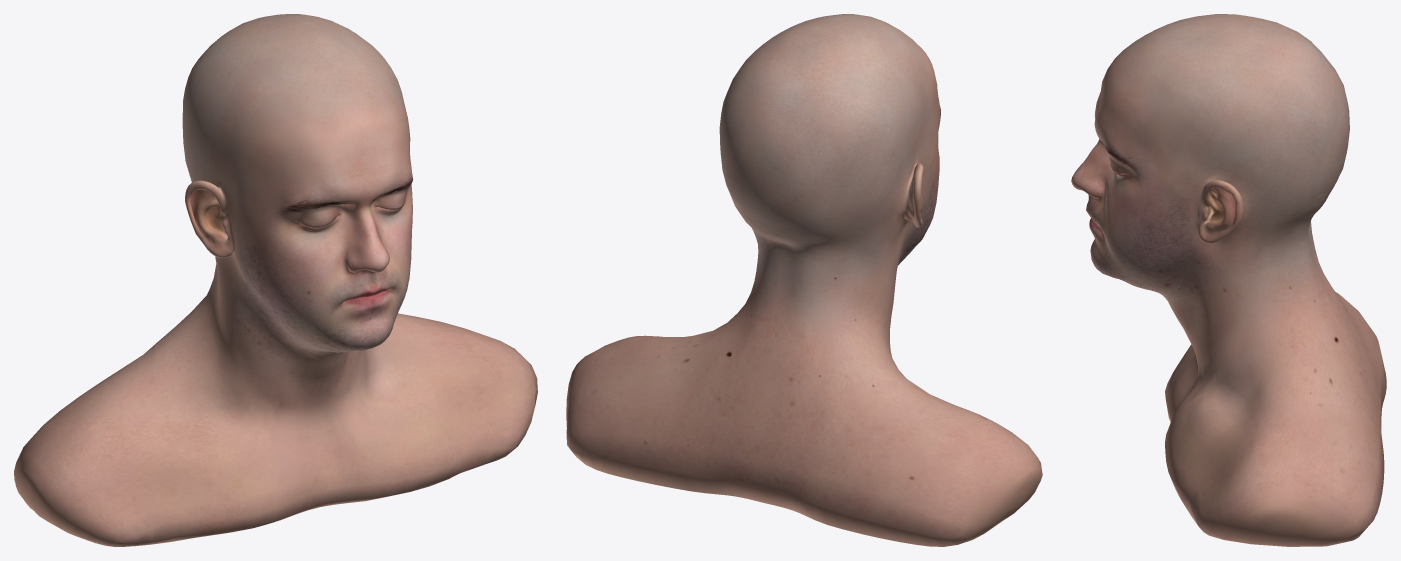
File: leeperrysmith.dae
3 renders of one model, left to right at view 1: azimuth 30°, elevation 25°; view 2: azimuth 150°, elevation 25°; view 3: azimuth 270°, elevation 25°, orthographic. The views are drawn at different scales.
Visible parts, largest first — view 1: leeperrysmith; view 2: leeperrysmith; view 3: leeperrysmith.
Boxes of the visible parts, x1,y1,x2,y2 form: leeperrysmith: (14, 14, 537, 546); leeperrysmith: (566, 14, 1042, 546); leeperrysmith: (1071, 14, 1386, 546).
Bounding box in the file's own units: 0.4533 × 0.2746 × 0.4211.
1 material, 1 textured.
